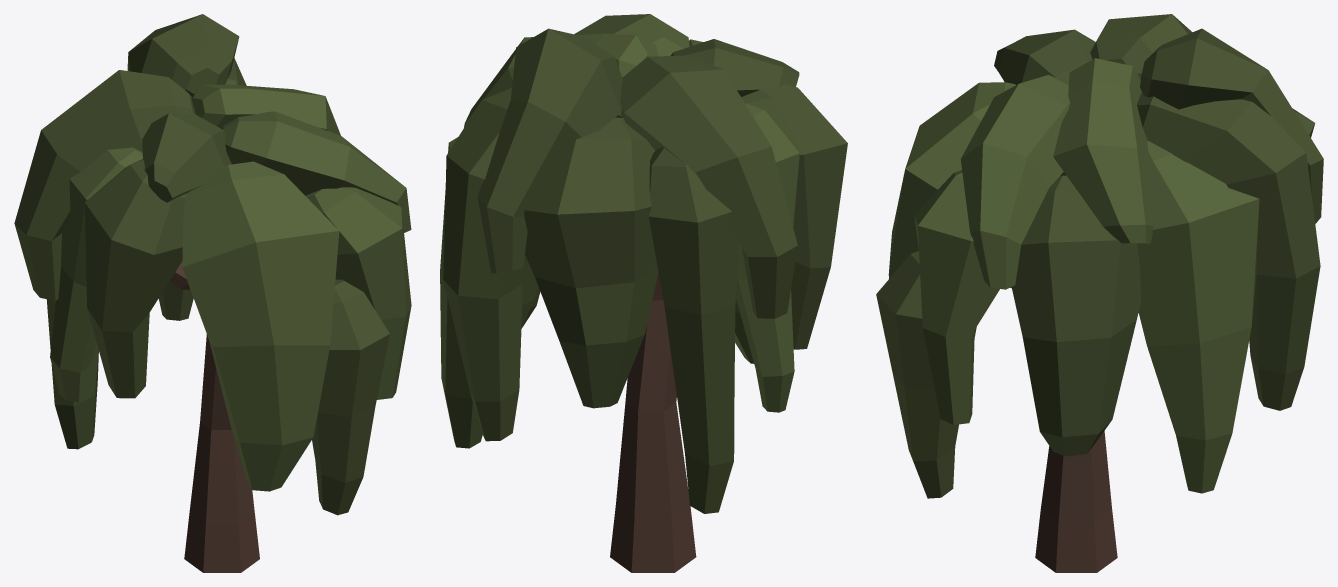
Rendered from Tree_Type6_03.glb.
The picture shows the model from 3 angles, left to right: view 1: azimuth 30°, elevation 25°; view 2: azimuth 150°, elevation 25°; view 3: azimuth 270°, elevation 25°; orthographic projection. The views are drawn at different scales.
Parts seen in each view (by area): view 1: Tree Type6 03 Model; view 2: Tree Type6 03 Model; view 3: Tree Type6 03 Model.
Part boxes in pixels (bbox=[...]): Tree Type6 03 Model: bbox=[14, 14, 411, 572]; Tree Type6 03 Model: bbox=[440, 14, 847, 572]; Tree Type6 03 Model: bbox=[876, 14, 1323, 572].
Bounding box in the file's own units: 2.45 × 3.66 × 2.76.
1 material, 1 textured.
